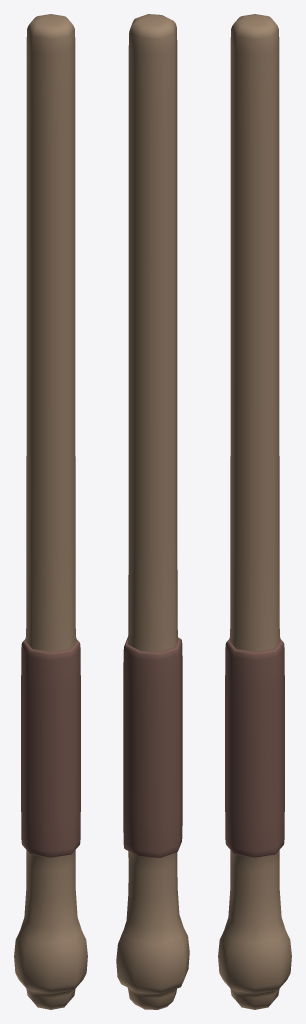
The model's file is Handle_Spear.fbx.
The picture shows the model from 3 angles, left to right: view 1: azimuth 90°, elevation 25°; view 2: azimuth 150°, elevation 25°; view 3: azimuth 270°, elevation 25°; orthographic projection.
Parts seen in each view (by area): view 1: Handle_Spear; view 2: Handle_Spear; view 3: Handle_Spear.
Boxes of the visible parts, box(x1,y1,x2,y2) form: Handle_Spear: box(14, 14, 87, 1009); Handle_Spear: box(116, 14, 189, 1009); Handle_Spear: box(218, 14, 291, 1009).
Bounding box in the file's own units: 64.24 × 945 × 64.24.
